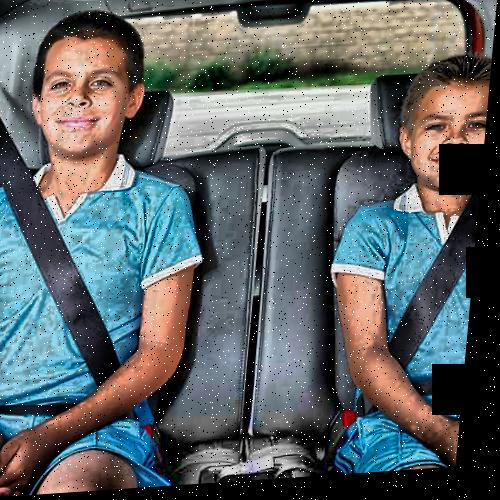seatbelt: (0, 96, 172, 436), (330, 176, 485, 450)
